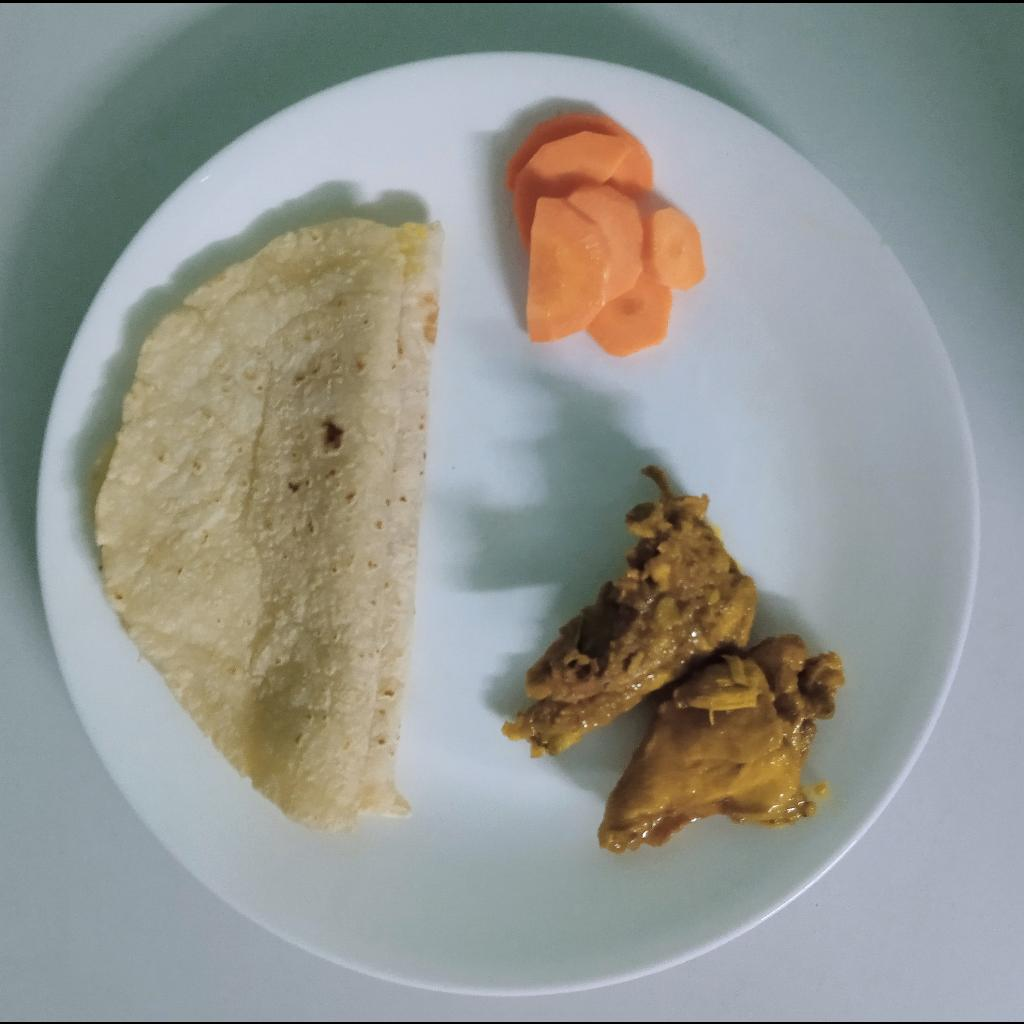carrot: (503, 111, 707, 356)
chicken: (506, 464, 846, 852)
ruti: (94, 214, 446, 831)
